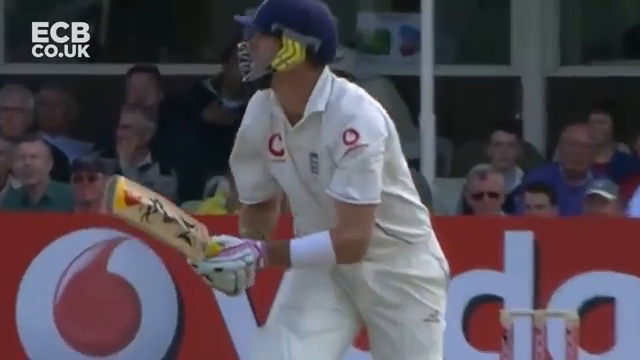batsman: (186, 6, 450, 356)
